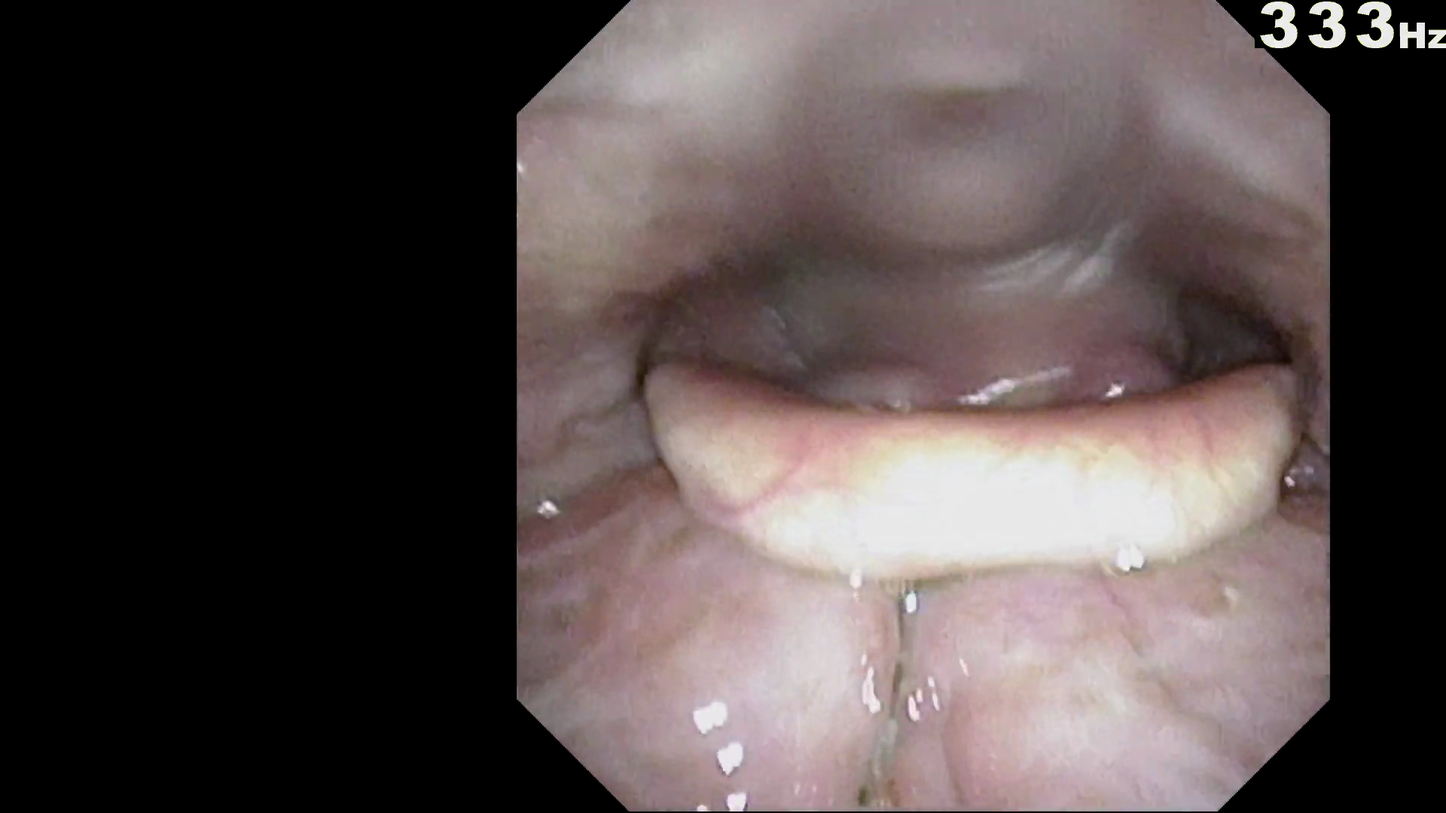epiglottis: (676, 378, 1285, 603)
